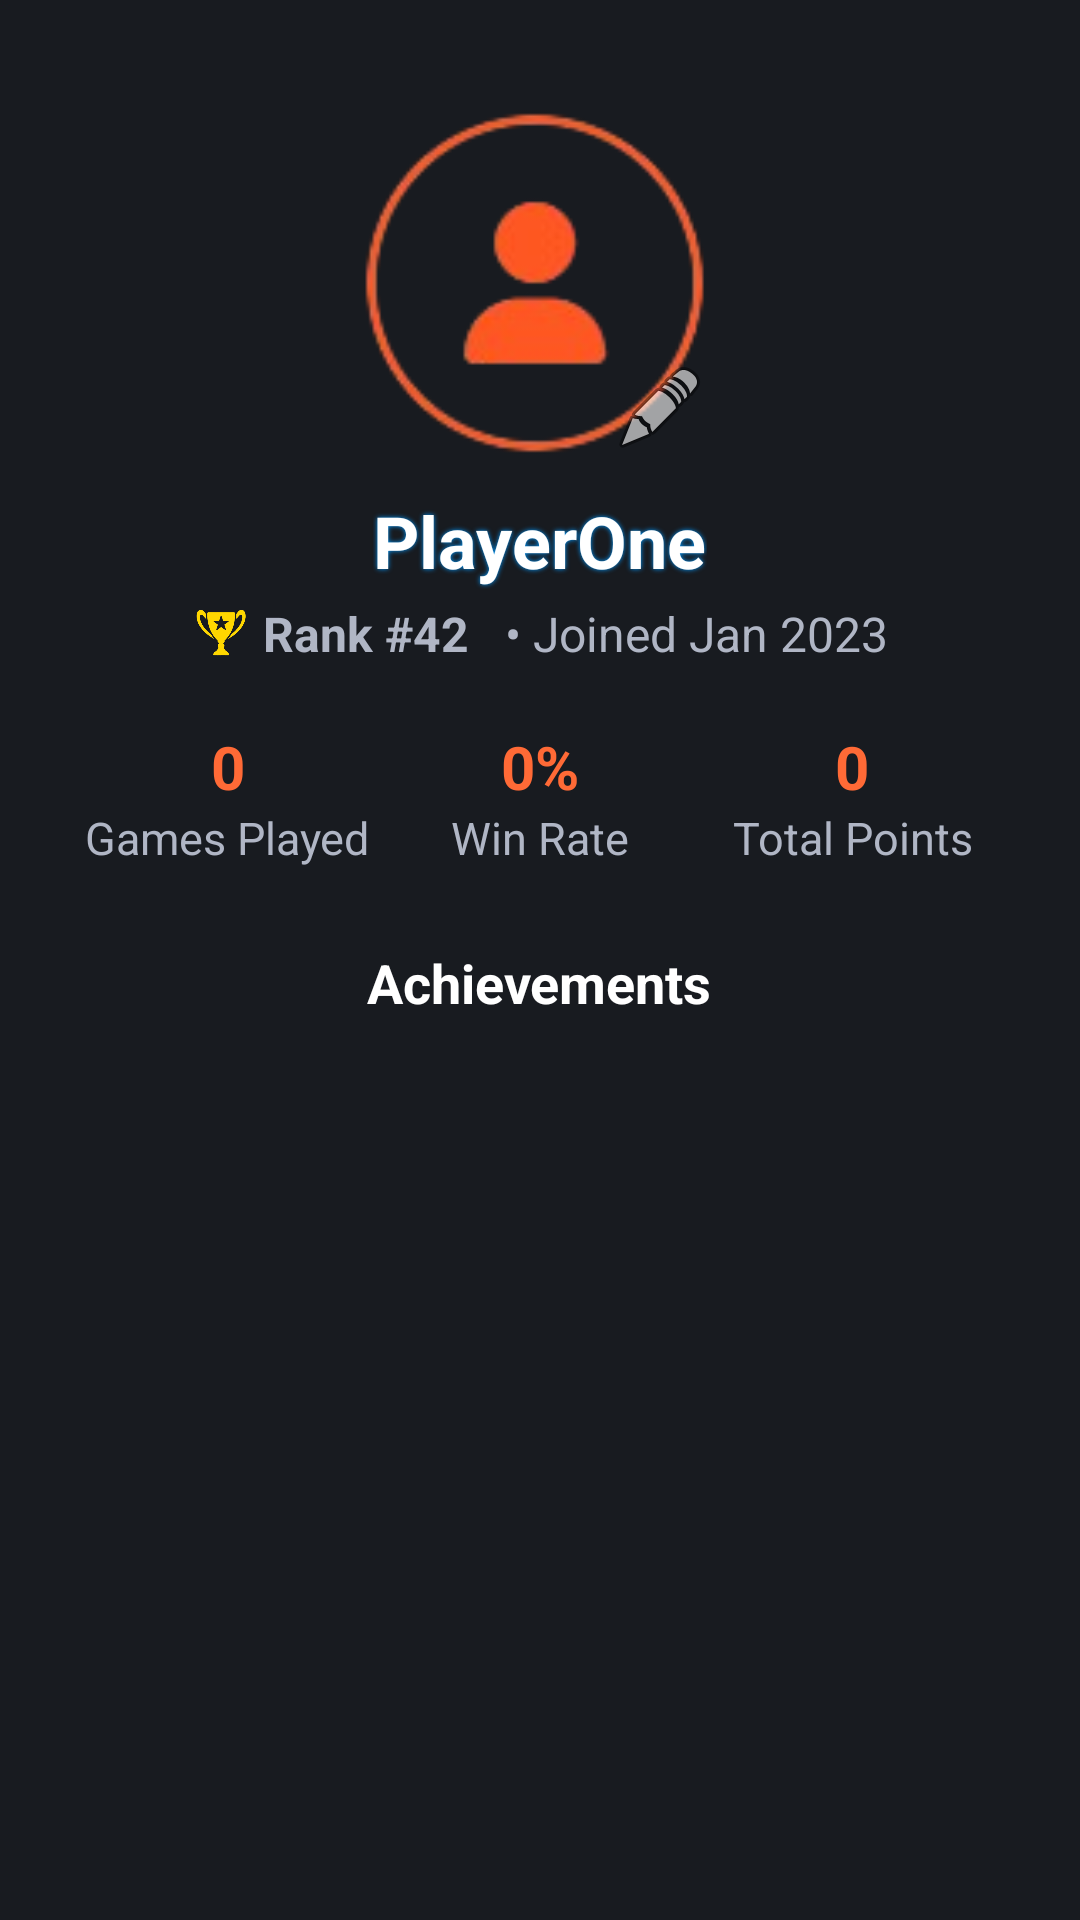

Icons on this 1080w x 1920h Android screen, each with the point to tap as (x,y):
trophy: (221,633)
